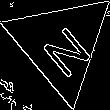N_NW: (31, 12, 92, 76)
